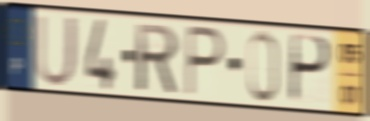0: (247, 27, 281, 106)
4: (84, 15, 117, 94)
P: (287, 31, 334, 107), (183, 22, 228, 100)
R: (133, 21, 181, 97)
U: (34, 12, 80, 90)
